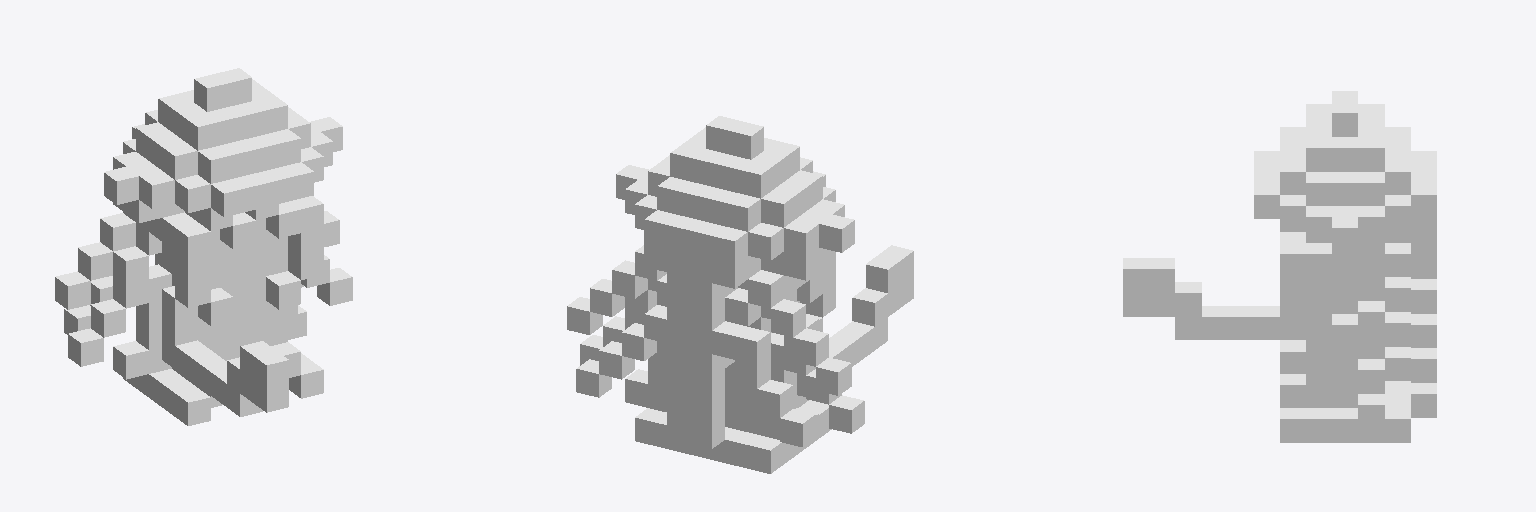
Rendered from mage.obj.
3 renders of one model, left to right at view 1: azimuth 30°, elevation 25°; view 2: azimuth 150°, elevation 25°; view 3: azimuth 270°, elevation 25°, orthographic.
Bounding box in the file's own units: 12 × 13 × 12.